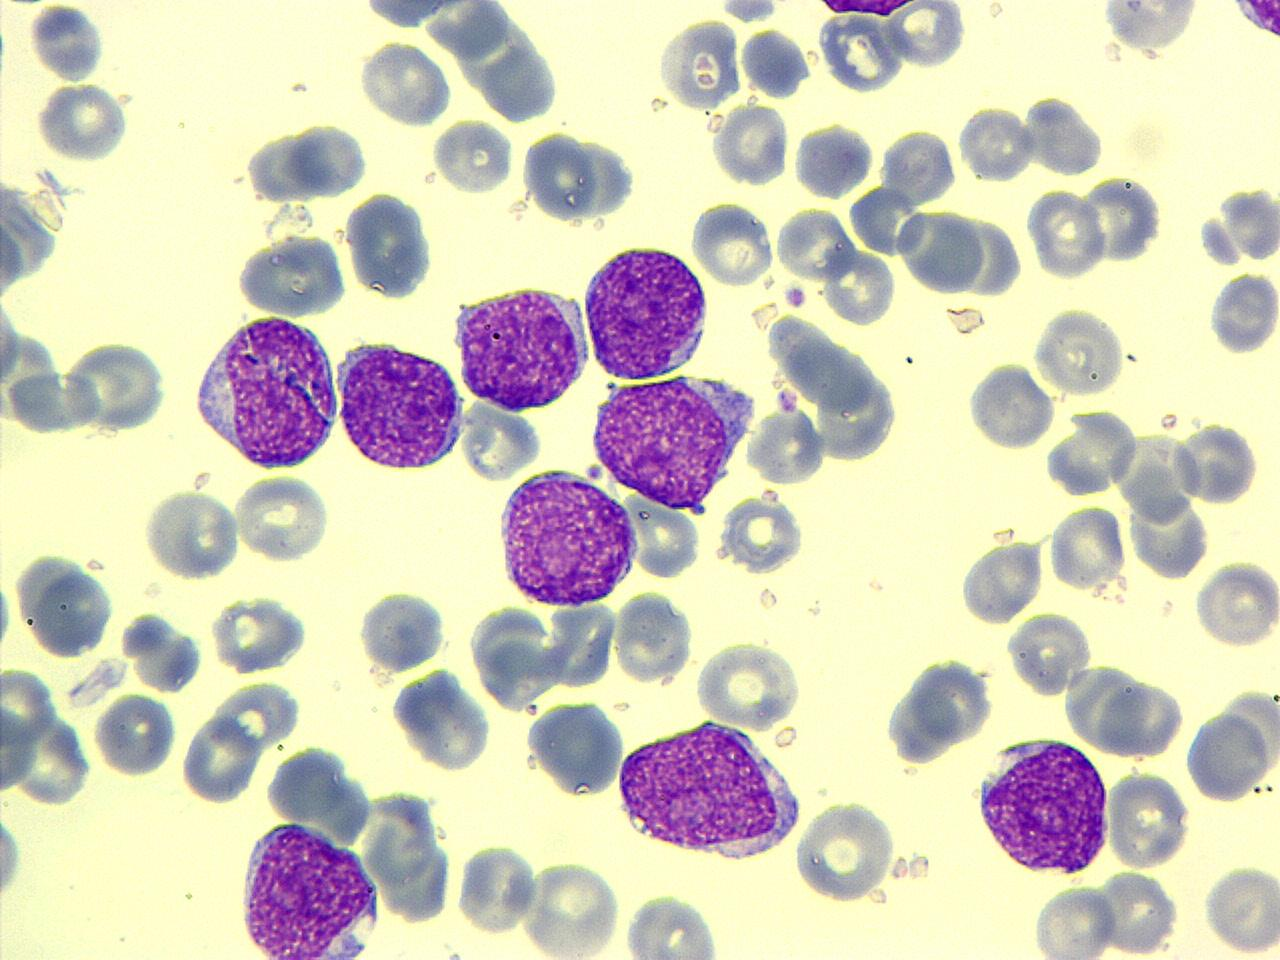Platelets: (356, 585, 446, 675), (27, 4, 111, 83), (1205, 270, 1277, 358), (718, 0, 776, 24), (0, 578, 16, 656), (782, 283, 809, 309)
RBC: (792, 798, 900, 904), (65, 335, 169, 436), (522, 858, 622, 959), (234, 231, 349, 318), (696, 638, 801, 733), (142, 484, 242, 580), (233, 471, 332, 566), (1180, 708, 1276, 804), (1032, 304, 1126, 399), (1047, 404, 1139, 500), (26, 562, 116, 659), (1106, 769, 1192, 870), (964, 358, 1056, 451), (357, 38, 453, 128), (33, 78, 131, 165), (354, 585, 449, 674), (657, 16, 743, 114), (1004, 608, 1093, 700), (213, 592, 311, 674), (1194, 556, 1278, 651), (1026, 185, 1108, 282), (900, 204, 986, 296), (690, 197, 776, 289), (612, 588, 692, 684), (718, 489, 806, 576), (456, 840, 536, 935), (958, 536, 1044, 625), (1202, 860, 1280, 958), (1129, 488, 1209, 582), (1049, 499, 1129, 594), (618, 889, 728, 958), (180, 712, 260, 806), (1177, 417, 1261, 506), (1098, 867, 1180, 956), (96, 690, 178, 778), (522, 127, 598, 224), (1024, 91, 1104, 179), (711, 100, 789, 190), (790, 122, 876, 200), (1205, 267, 1279, 356), (1031, 882, 1117, 958), (432, 115, 512, 196), (957, 103, 1036, 183), (776, 204, 852, 284), (1098, 0, 1206, 53), (738, 25, 812, 102), (1, 804, 25, 910)
WBC: (614, 714, 806, 863), (188, 309, 344, 472), (586, 370, 758, 512), (494, 464, 641, 610), (236, 819, 383, 960), (974, 732, 1114, 878), (580, 238, 715, 384), (451, 280, 591, 415), (334, 336, 468, 471), (884, 652, 996, 767), (388, 665, 494, 772), (241, 121, 372, 208), (344, 188, 438, 302), (524, 697, 628, 797), (237, 231, 350, 320), (1182, 705, 1272, 804), (355, 585, 447, 675), (29, 564, 114, 659), (1099, 1, 1207, 55), (337, 0, 498, 32)
